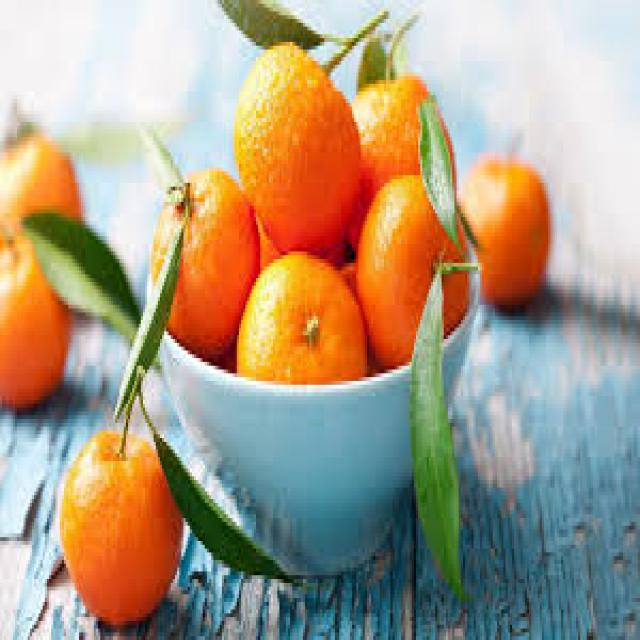orange: (228, 36, 362, 259)
